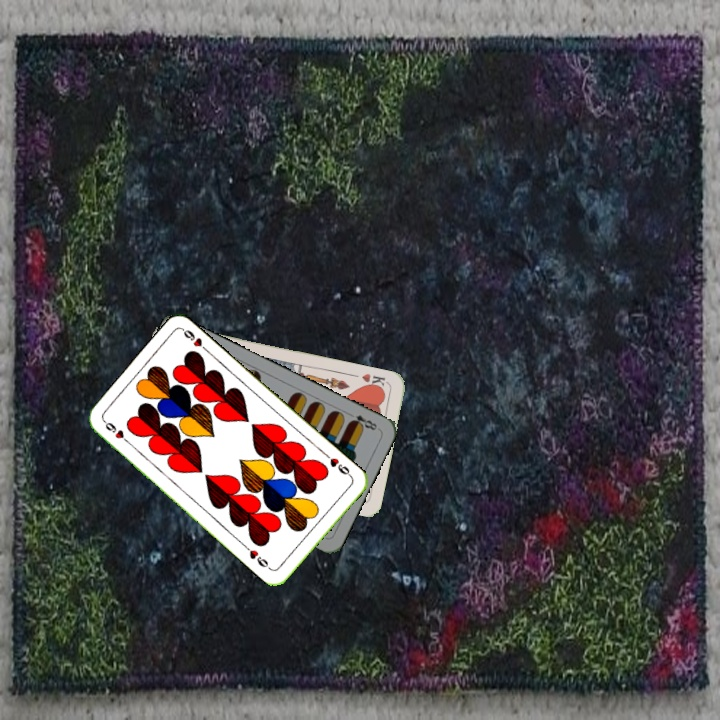E8: (344, 408, 380, 433)
H9: (100, 417, 133, 447), (326, 454, 355, 480)
HK: (358, 369, 391, 392)
